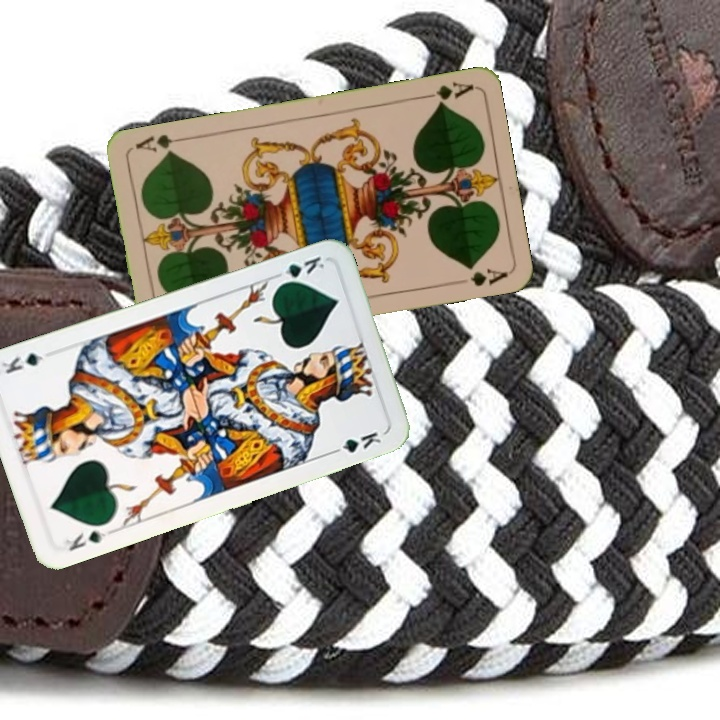GA: (416, 78, 475, 108)
GK: (274, 252, 327, 288), (59, 525, 115, 554)
